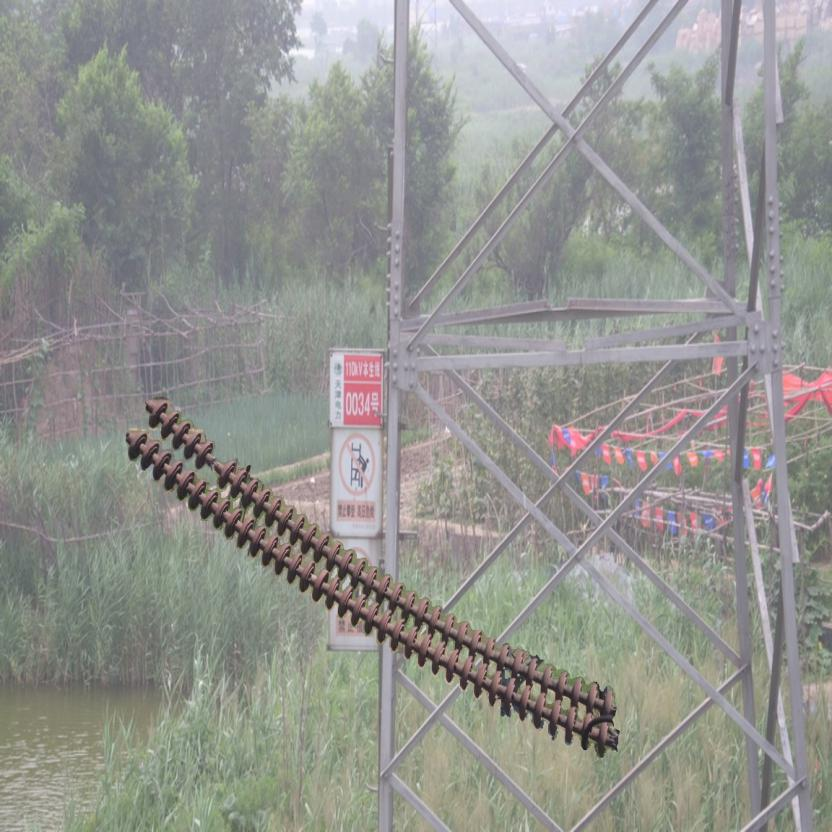defect: (192, 437, 238, 487)
